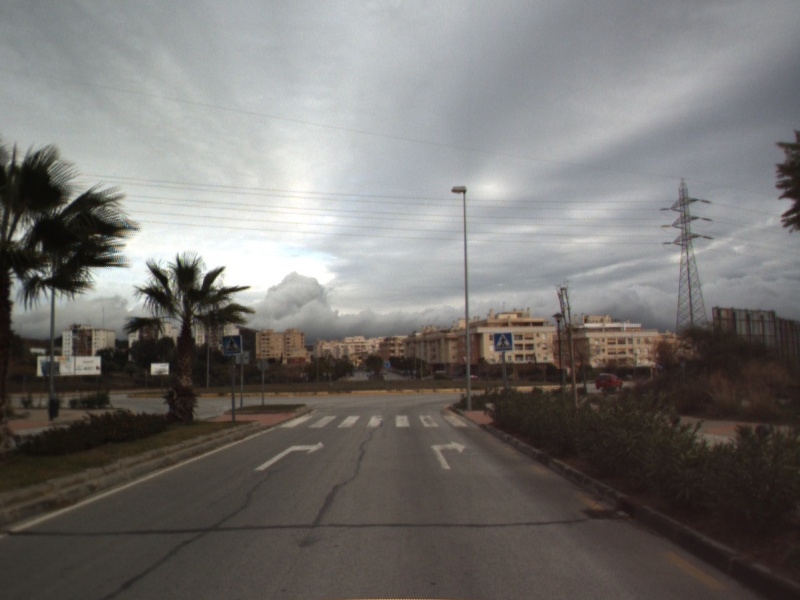RIGHT: (252, 439, 327, 473), (429, 438, 468, 471)
